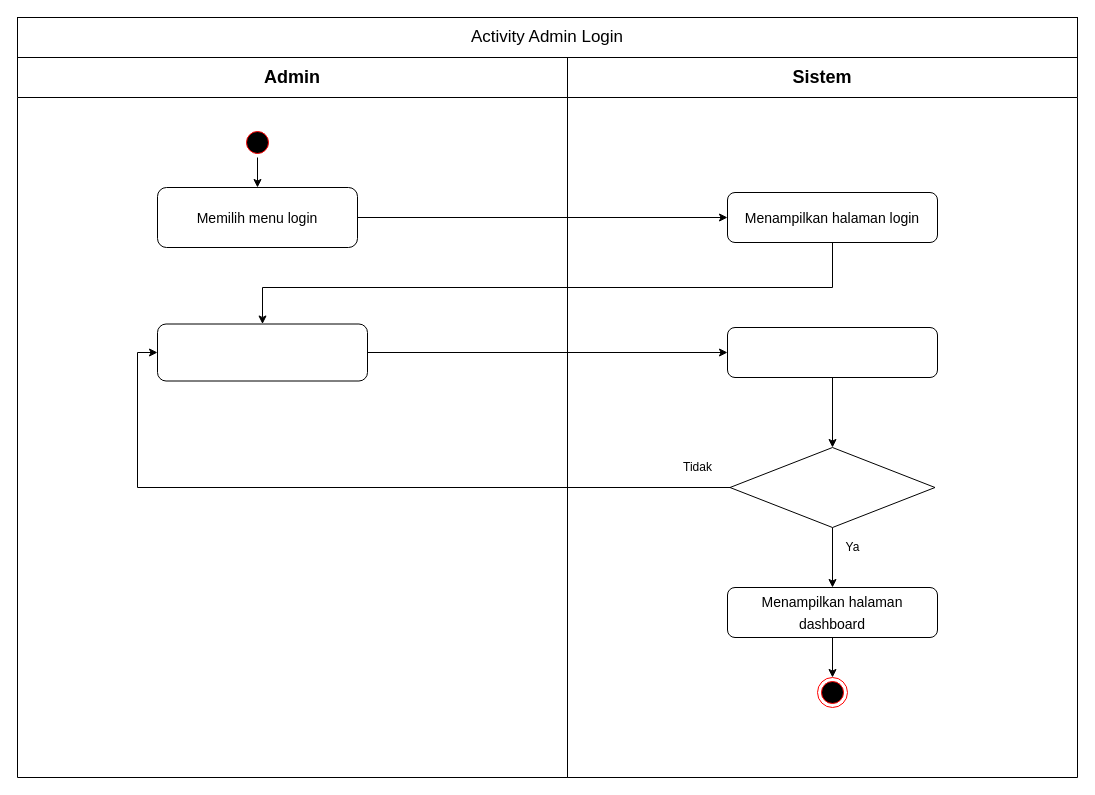
Image size: 1095x795. Some labels were removed from this diagram. The centre of each missing label's shape, as x and y in pixels:
Email dan password benar ?: point 832,487
Melakukan validasi data: point 832,352
Memasukkan email dan password: point 262,352
